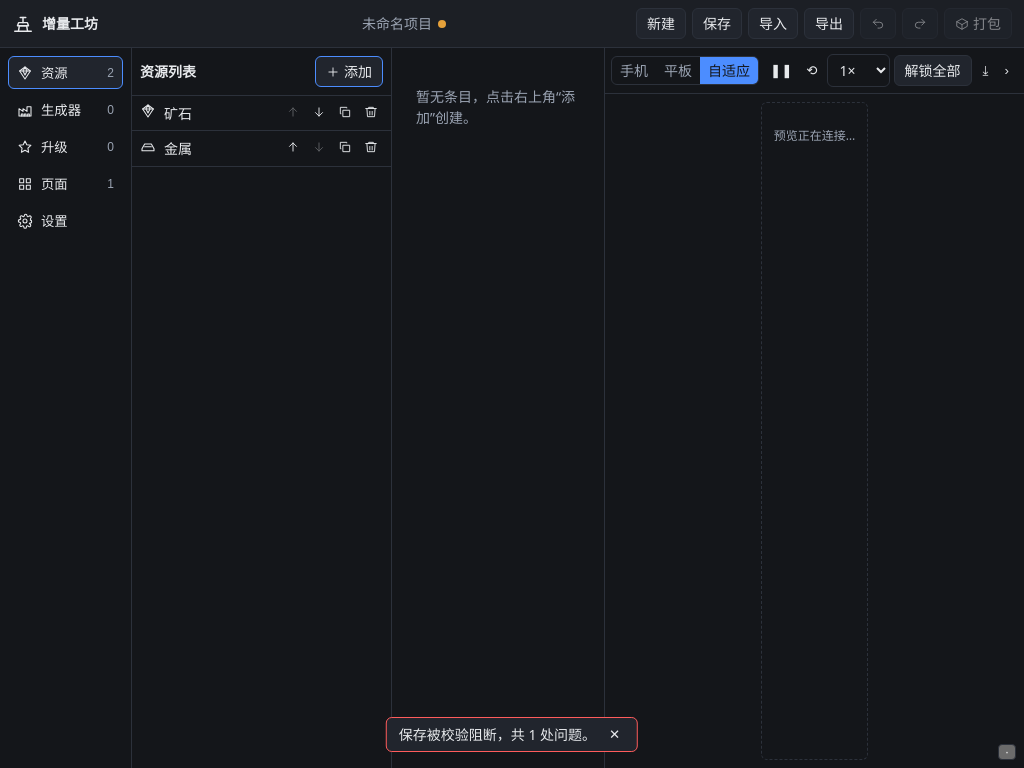
Test: 项目生命周期（7.9、10.2） › 未保存改动时新建先弹确认（7.9）
The image size is (1024, 768).
Click the button "新建". click: (661, 24)
box: [636,8,686,39]
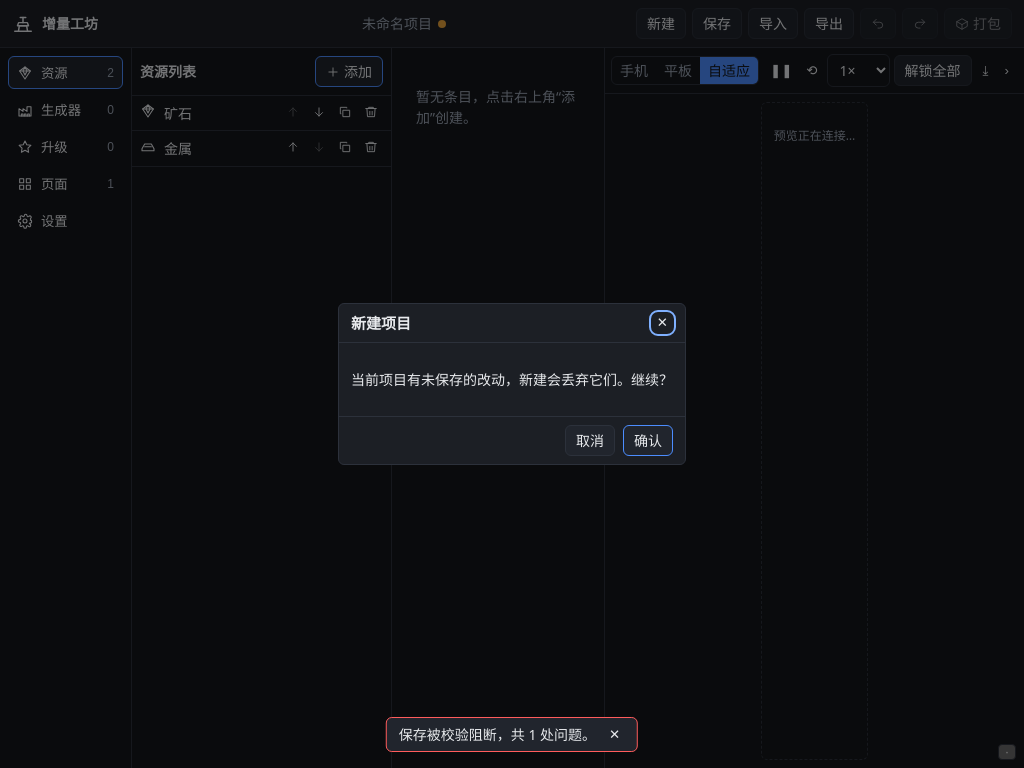
Now the dialog is shown, box [338,303,686,465]
